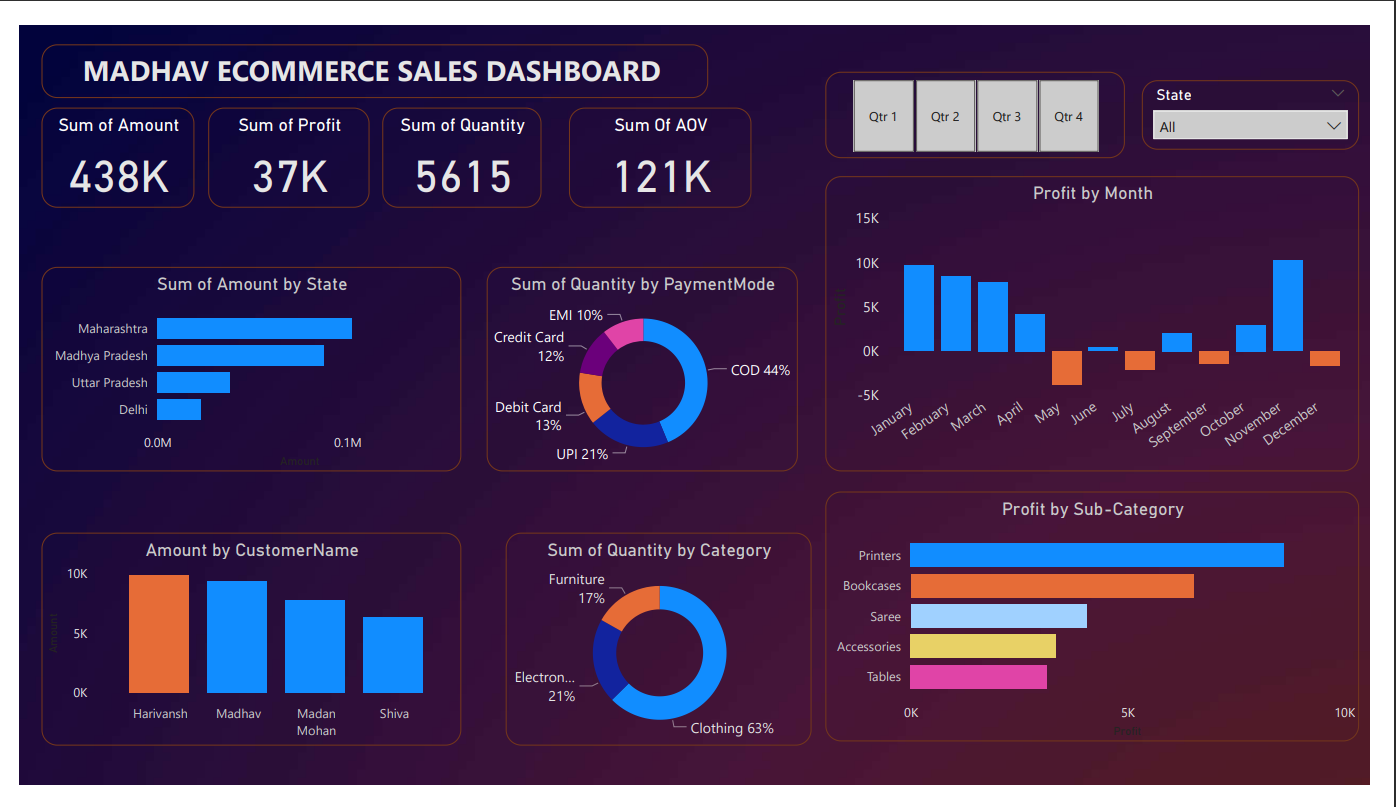

Layout of this report page (visuals, bound fields, positions):
{"tool":"powerbi","page":{"name":"DASHBOARDS ","canvas":[1280,720],"ordinal":0},"visuals":[{"type":"textbox","box":[20.8,18.2,632.5,50.6],"z":0},{"type":"columnChart","fields":{"Y":["Sum(Details.Profit)"],"Category":["Orders.Order Date.Variation.Date Hierarchy.Month"]},"box":[763.6,142.9,506.5,280.5],"z":1000},{"type":"barChart","fields":{"Category":["Details.Sub-Category"],"Y":["Sum(Details.Profit)"]},"box":[763.6,441.6,506.5,237.7],"z":2000},{"type":"donutChart","title":"Sum of Quantity by Category","fields":{"Y":["Sum(Details.Quantity)"],"Category":["Details.Category"]},"box":[461,480.5,289.6,202.6],"z":3000},{"type":"donutChart","title":"Sum of Quantity by PaymentMode","fields":{"Y":["Sum(Details.Quantity)"],"Category":["Details.PaymentMode"]},"box":[442.9,228.6,294.8,194.8],"z":4000},{"type":"card","title":"Sum of Amount","fields":{"Values":["Sum(Details.Amount)"]},"box":[20.8,77.9,145.5,94.8],"z":5000},{"type":"card","title":"Sum of Profit","fields":{"Values":["Sum(Details.Profit)"]},"box":[179.2,77.9,153.2,94.8],"z":6000},{"type":"card","title":"Sum of Quantity","fields":{"Values":["Sum(Details.Quantity)"]},"box":[344.2,77.9,150.6,94.8],"z":7000},{"type":"card","title":"Sum Of AOV","fields":{"Values":["Sum(Details.AOV)"]},"box":[520.8,77.9,172.7,94.8],"z":8000},{"type":"barChart","title":"Sum of Amount by State","fields":{"Category":["Orders.State"],"Y":["Sum(Details.Amount)"]},"box":[20.8,228.6,398.7,194.8],"z":9000},{"type":"columnChart","fields":{"Category":["Orders.CustomerName"],"Y":["Sum(Details.Amount)"]},"box":[20.8,480.5,398.7,202.6],"z":10000},{"type":"slicer","fields":{"Values":["Orders.Order Date.Variation.Date Hierarchy.Quarter"]},"box":[763.6,44.2,284.4,81.8],"z":11000},{"type":"slicer","fields":{"Values":["Orders.State"]},"box":[1063.6,44.2,206.5,81.8],"z":12000}]}

Visuals, with their boxes in screenshot pixels (x1, y1, x2, y2), scaled from the page's 1280x720 canvas onto the 1396x807 screenshot:
textbox: [23, 20, 713, 77]
columnChart - Sum(Details.Profit) x Orders.Order Date.Variation.Date Hierarchy.Month: [833, 160, 1385, 475]
barChart - Details.Sub-Category x Sum(Details.Profit): [833, 495, 1385, 761]
"Sum of Quantity by Category" donutChart: [503, 539, 819, 766]
"Sum of Quantity by PaymentMode" donutChart: [483, 256, 805, 475]
"Sum of Amount" card: [23, 87, 181, 194]
"Sum of Profit" card: [195, 87, 363, 194]
"Sum of Quantity" card: [375, 87, 540, 194]
"Sum Of AOV" card: [568, 87, 756, 194]
"Sum of Amount by State" barChart: [23, 256, 458, 475]
columnChart - Orders.CustomerName x Sum(Details.Amount): [23, 539, 458, 766]
slicer - Orders.Order Date.Variation.Date Hierarchy.Quarter: [833, 50, 1143, 141]
slicer - Orders.State: [1160, 50, 1385, 141]
